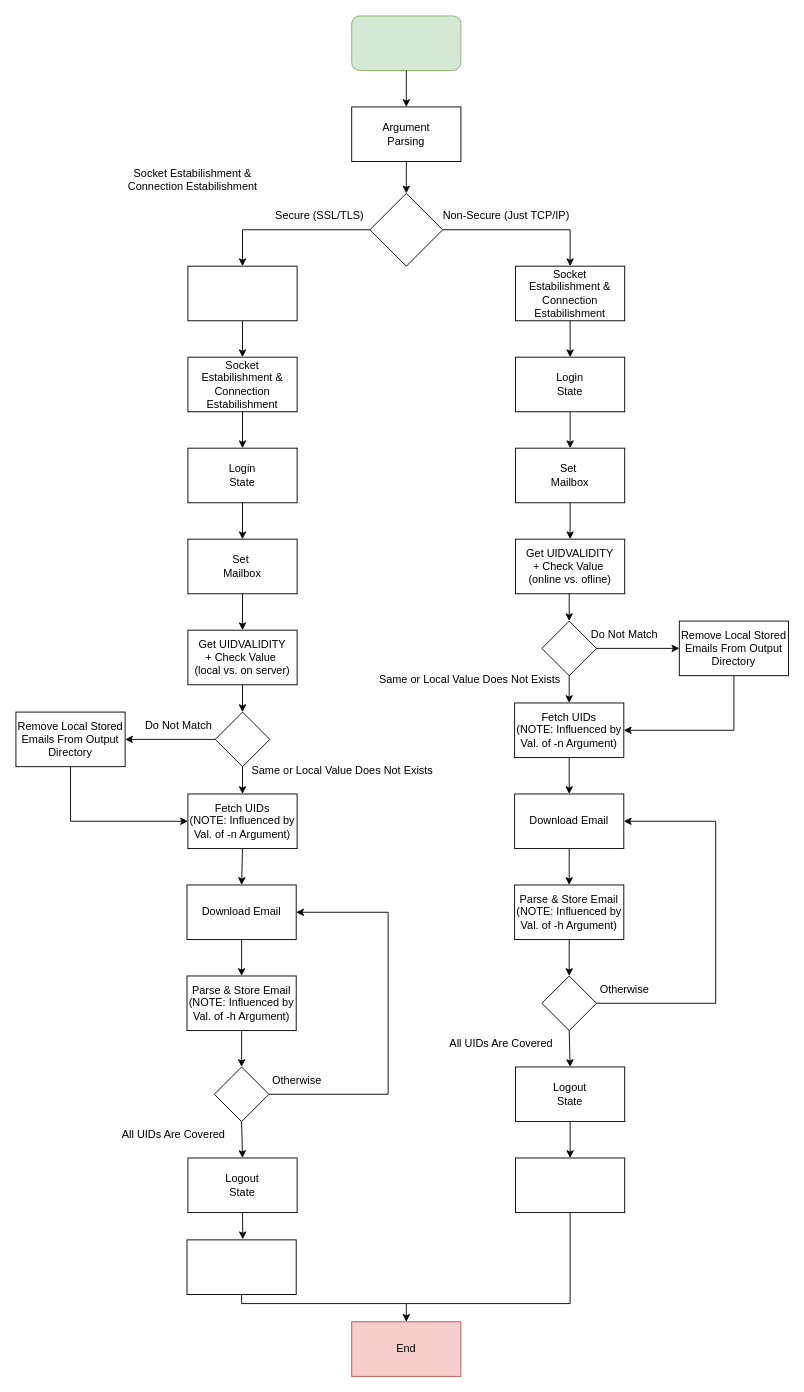
Image size: 804x1392. Some labels were removed from this diagram. Each missing label, with the centre of its shape:
"mode" goes at pixel 406 229.
"Socket Close" goes at pixel 570 1185.
"SSL/TLS Lib. Deinitialization and Socket Close" goes at pixel 241 1266.
"SSL/TLS Lib. Initialization" goes at pixel 242 293.
"Start" goes at pixel 406 43.
